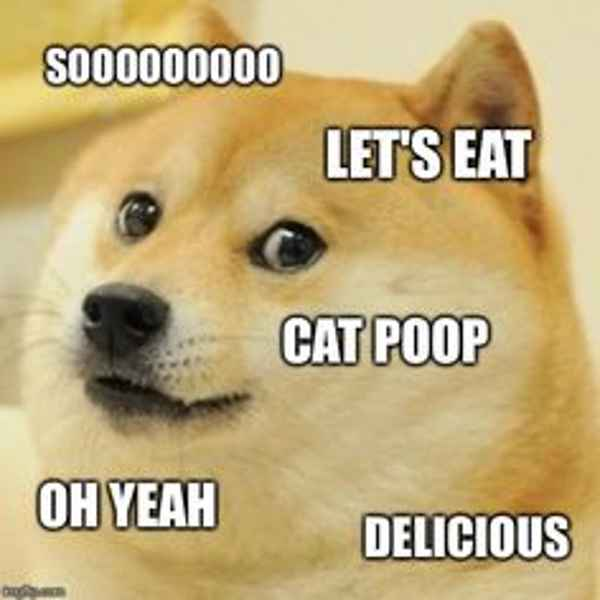doge: (42, 44, 537, 511)
